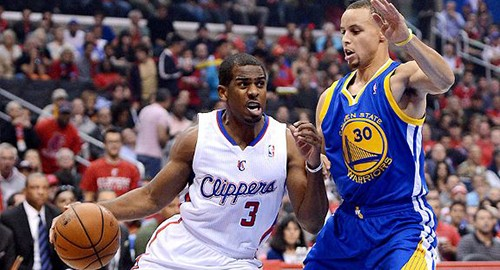basketball: (50, 203, 119, 270)
